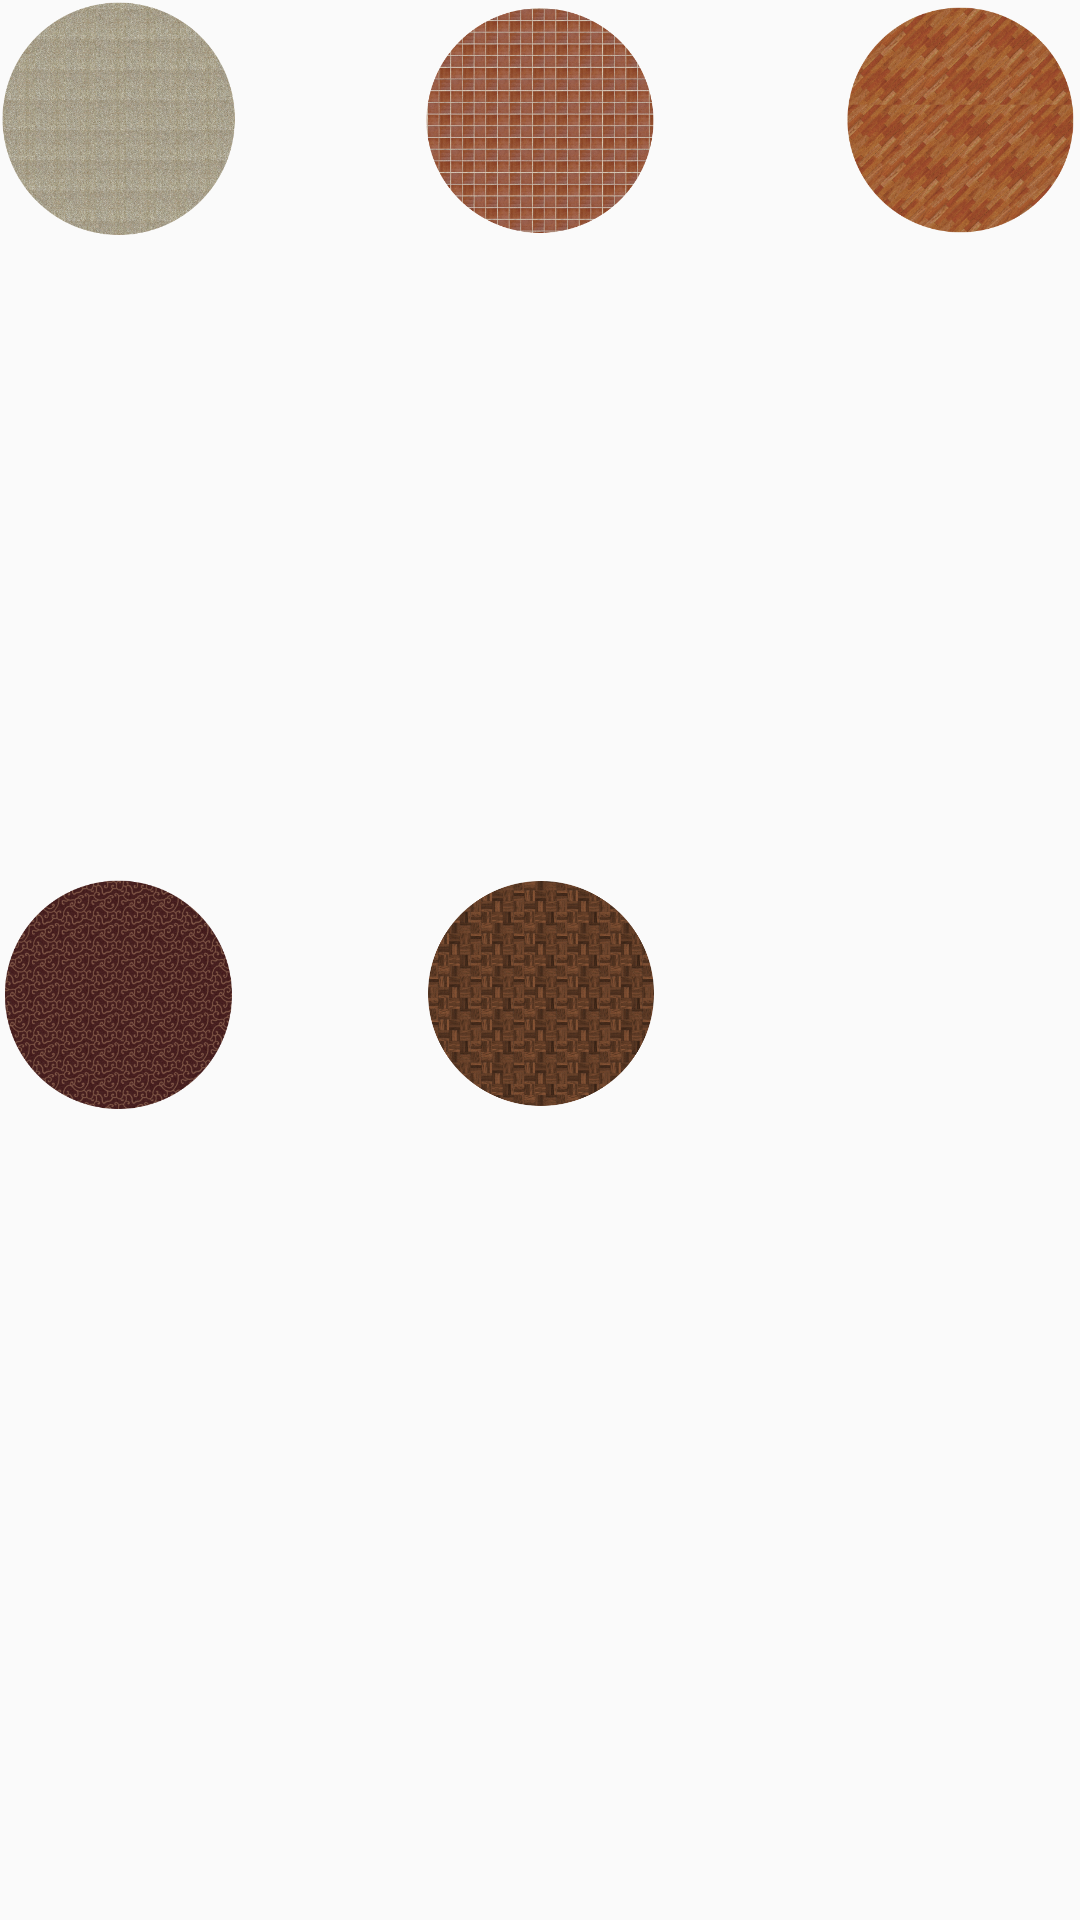

Screen size 1080px x 1920px. Icon name, then its box in pixels as [x1,y1,x2,y2]:
alfombra: [2,2,235,235], [5,880,232,1109]
pisomadera: [847,7,1074,233]
pisomaderab: [428,881,654,1106]
tableta: [426,8,654,233]
